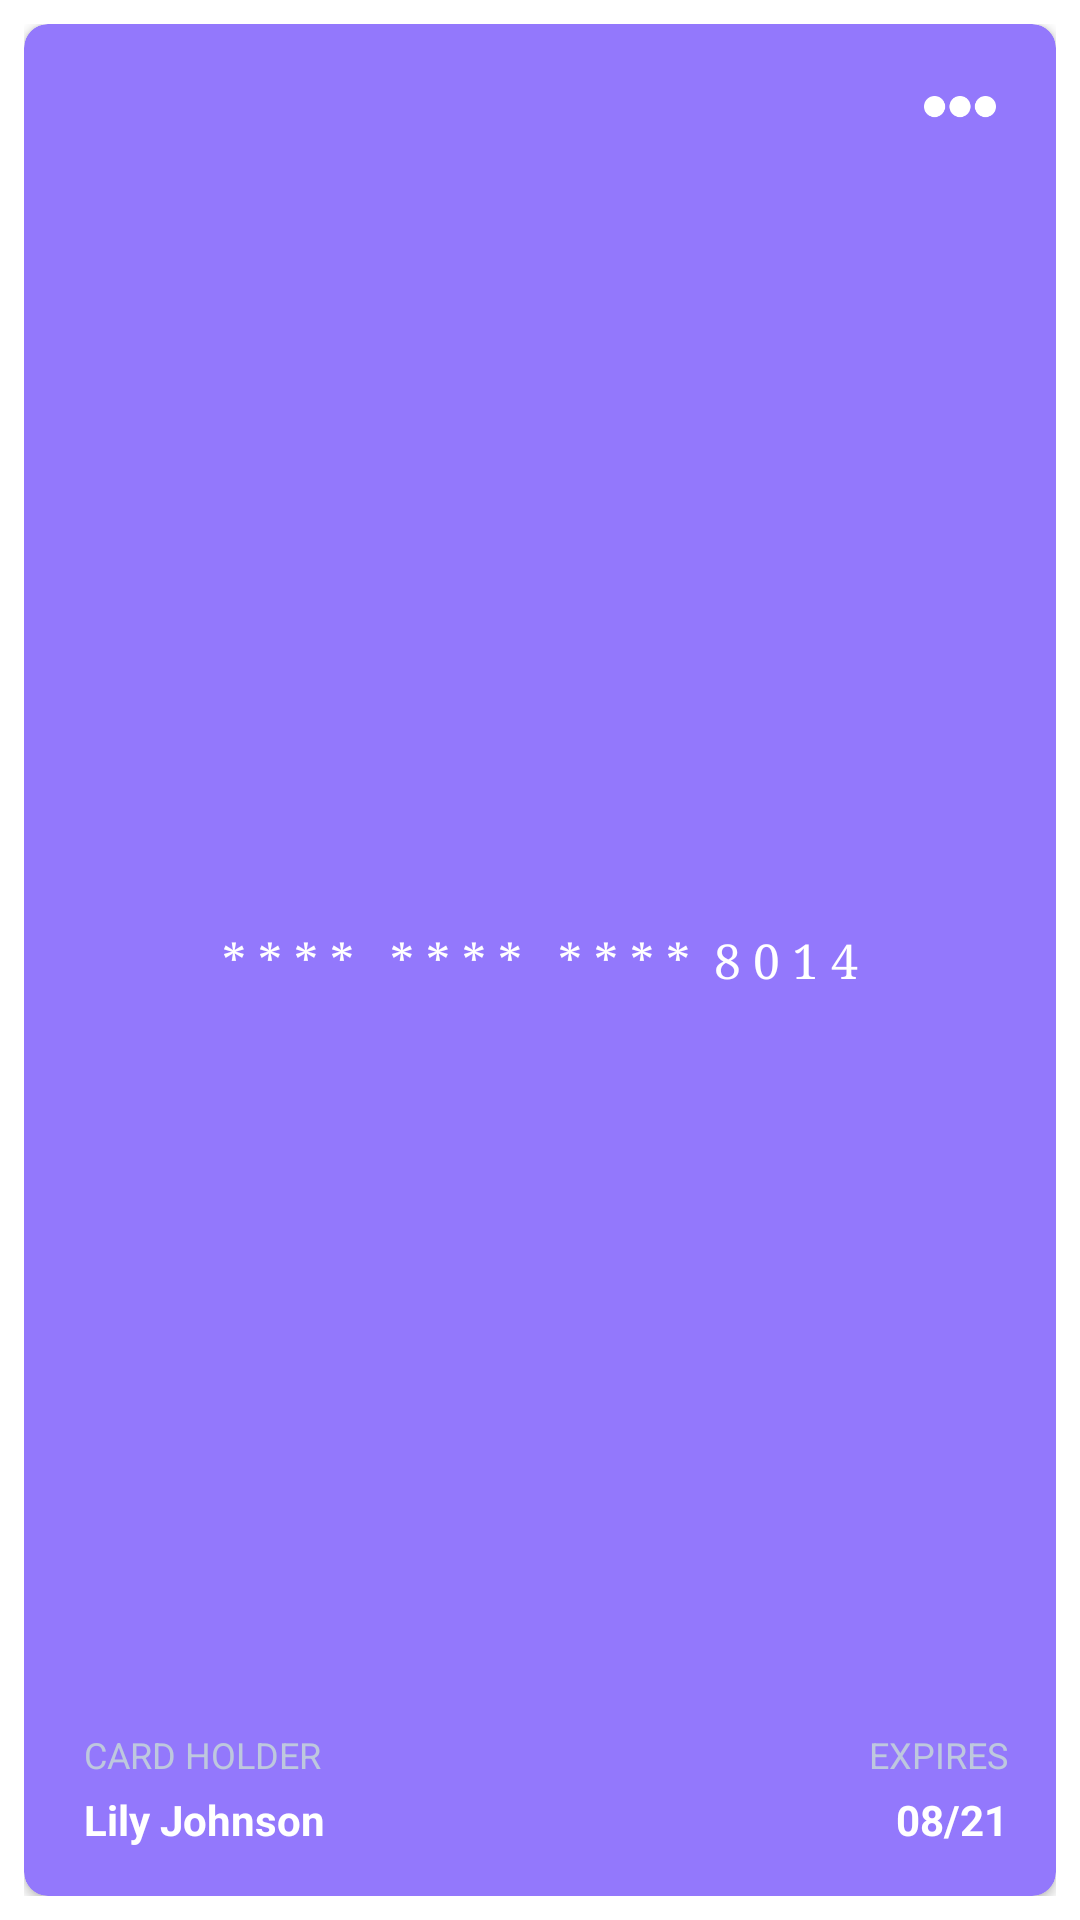

Where icons sit on this 1080*1920 app screen, as [x1, y1, x2, y2]:
more: [924, 96, 996, 117]
